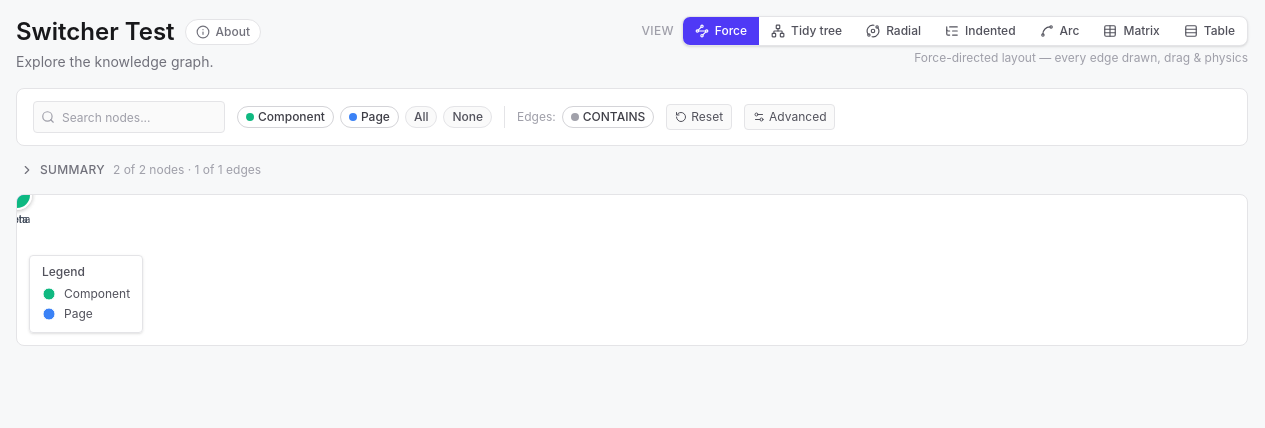
Test: Viewer view switching › shows a description of the active view and updates it on switch
Expected: the text with test id "view-description" shows "Force-directed", [914,50,1248,65]
What coordinates should you click on to do the following:
click the button "Matrix"
I would click on:
 (1132, 31)
Its box is [1091,17,1172,45].
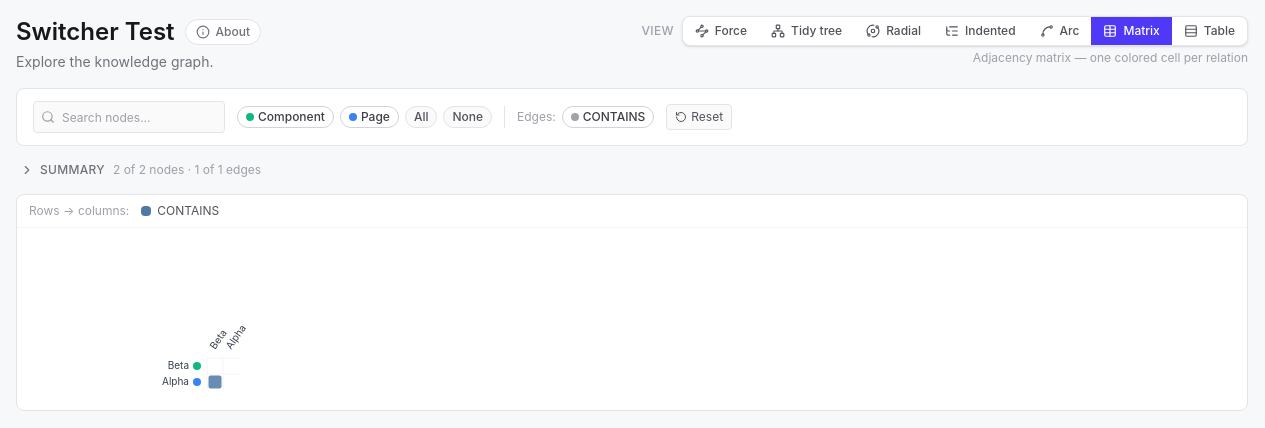
Expected: the text with test id "view-description" shows "Adjacency matrix", [973,50,1248,65]
